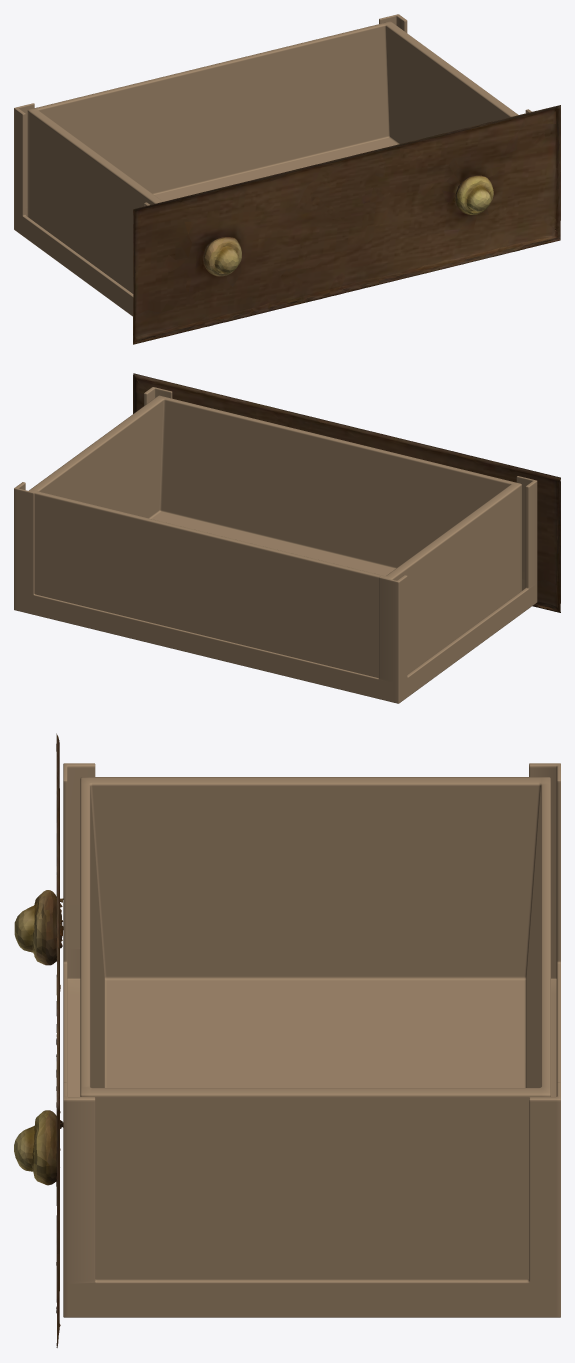
Rendered from drawer_middle.glb.
The picture shows the model from 3 angles, top to bottom: view 1: azimuth 30°, elevation 25°; view 2: azimuth 150°, elevation 25°; view 3: azimuth 270°, elevation 25°; orthographic projection. The views are drawn at different scales.
Visible parts, largest first — view 1: prefab_drawer_body_2, source_front_cap_0; view 2: prefab_drawer_body_2, source_front_cap_0; view 3: prefab_drawer_body_2, source_front_cap_0.
Boxes of the visible parts, x1,y1,x2,y2 form: prefab_drawer_body_2: (14, 14, 531, 316); source_front_cap_0: (133, 105, 560, 344); prefab_drawer_body_2: (14, 387, 537, 703); source_front_cap_0: (133, 373, 560, 612); prefab_drawer_body_2: (63, 763, 560, 1317); source_front_cap_0: (14, 733, 63, 1347).
Bounding box in the file's own units: 0.5907 × 0.1788 × 0.3651.
Materials: 2 (1 with a texture image).
